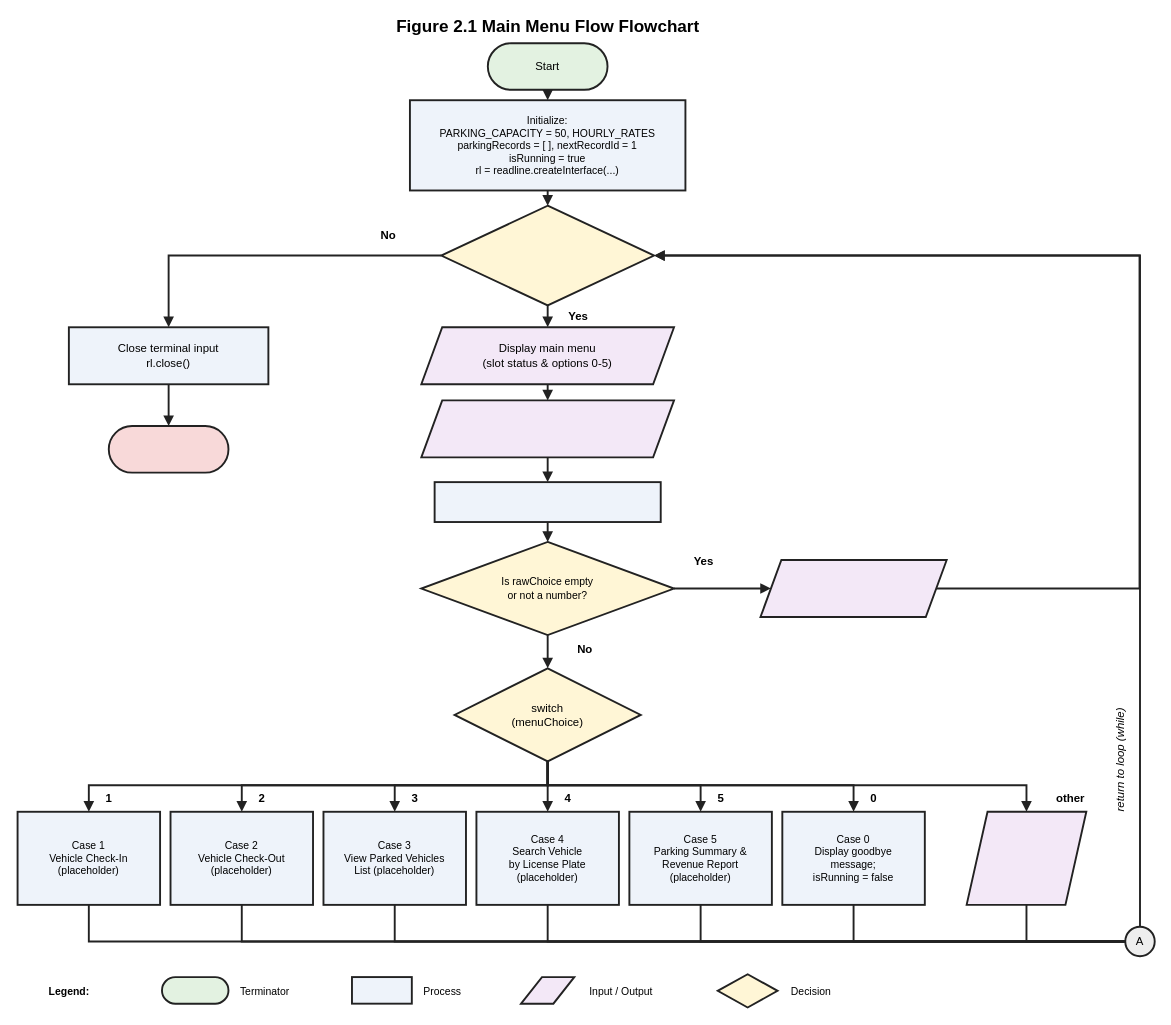
The diagram is 1171 pixels wide and 1025 high, and some of its shapes have lost their labels. The centre of each missing label's shape, as x and y in pixels:
default [ERROR] Option not available: (1026,857)
Display [ERROR] invalid input (continue): (853,588)
End: (168,449)
Input menu choice rawChoice = promptInput().trim(): (547,428)
isRunning == true?: (547,255)
menuChoice = Number(rawChoice): (547,501)
